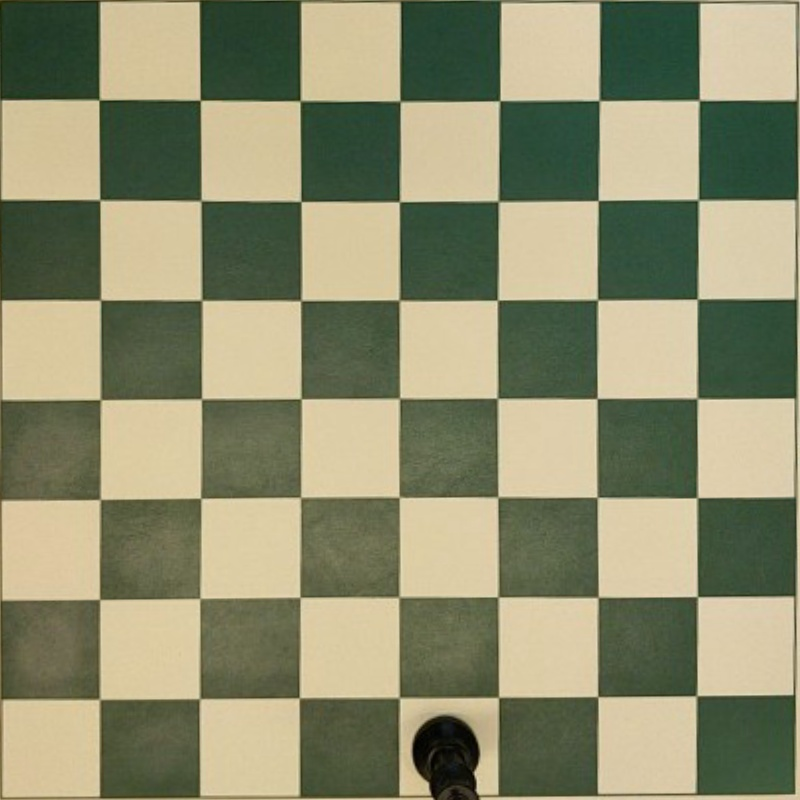black-king: (411, 714, 482, 799)
